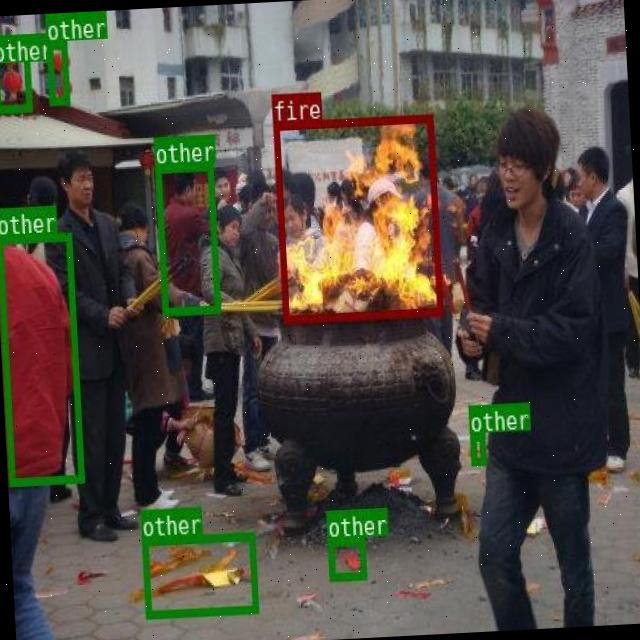fire: (273, 113, 442, 323)
